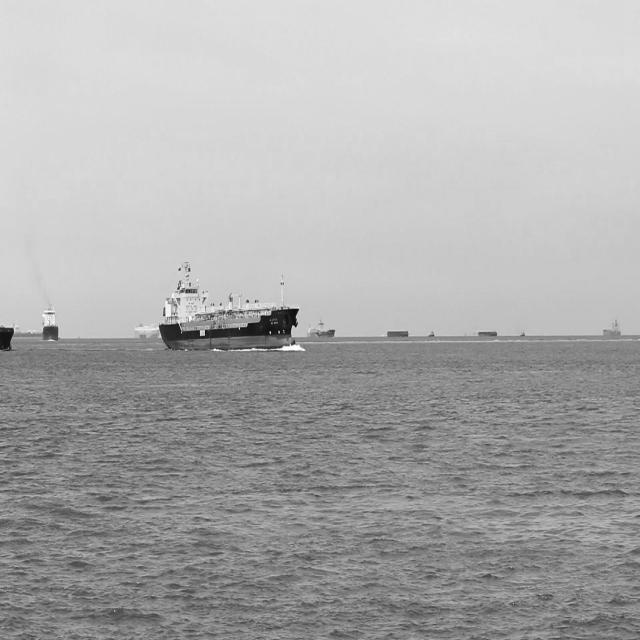ship: (158, 256, 302, 353), (43, 304, 61, 343), (307, 317, 335, 339), (601, 313, 625, 338), (13, 320, 42, 340)
